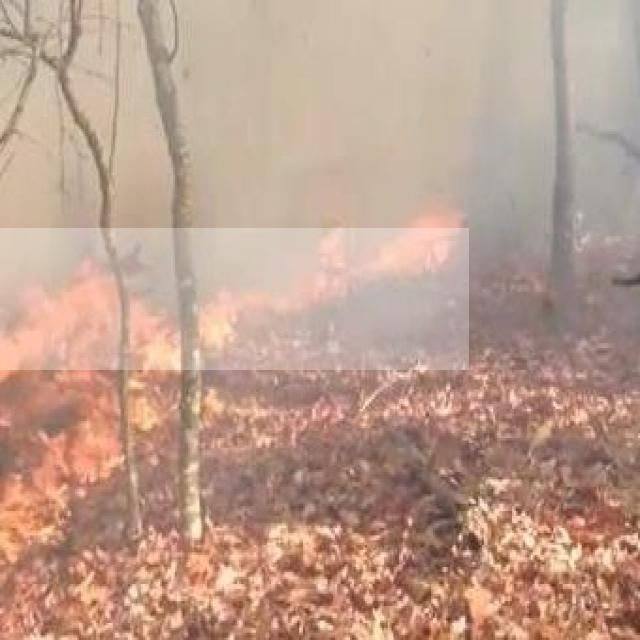Fire: (0, 228, 469, 370)
